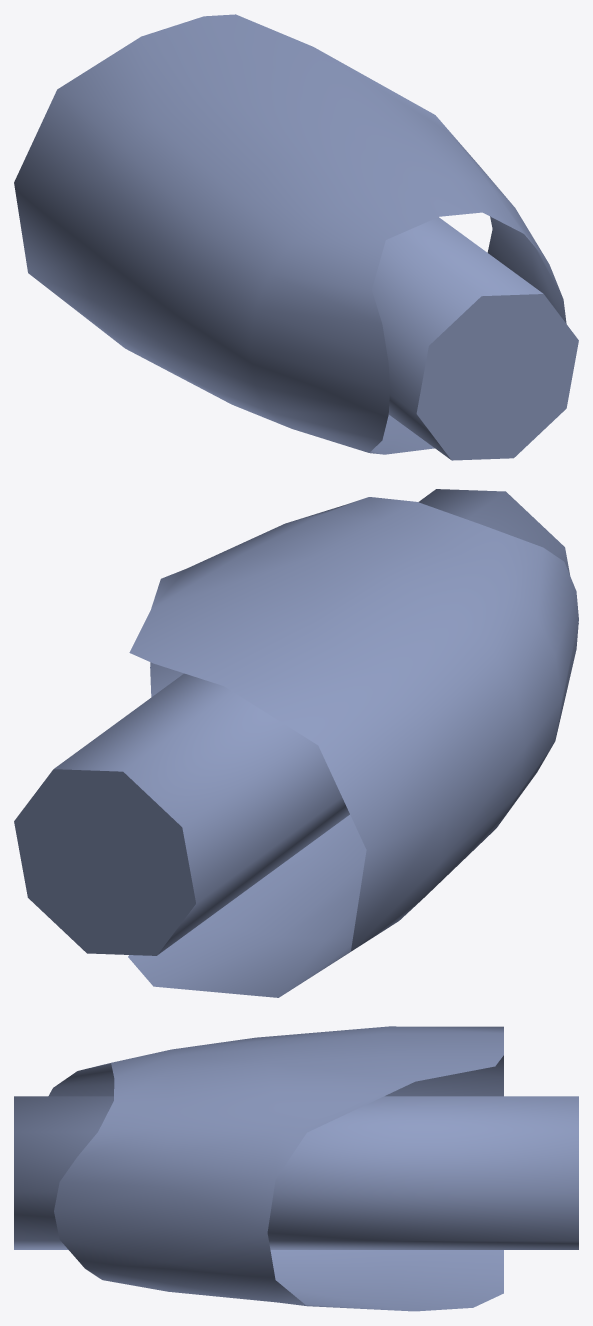
File: icub_simple_collision_l_forearm.dae
3 renders of one model, top to bottom at view 1: azimuth 30°, elevation 25°; view 2: azimuth 150°, elevation 25°; view 3: azimuth 270°, elevation 25°, orthographic. The views are drawn at different scales.
Parts seen in each view (by area): view 1: l_forearm_mesh; view 2: l_forearm_mesh; view 3: l_forearm_mesh.
Part boxes in pixels (box(x1,y1,x2,y2)): l_forearm_mesh: box(14, 14, 578, 460); l_forearm_mesh: box(14, 489, 578, 997); l_forearm_mesh: box(14, 1026, 578, 1311).
Size of the model in its own units: 0.0795 by 0.0652 by 0.14.
